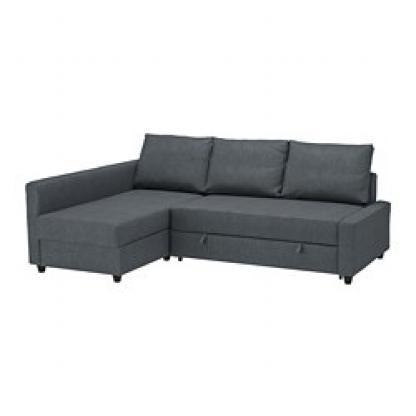Sofa: (16, 115, 392, 313)
